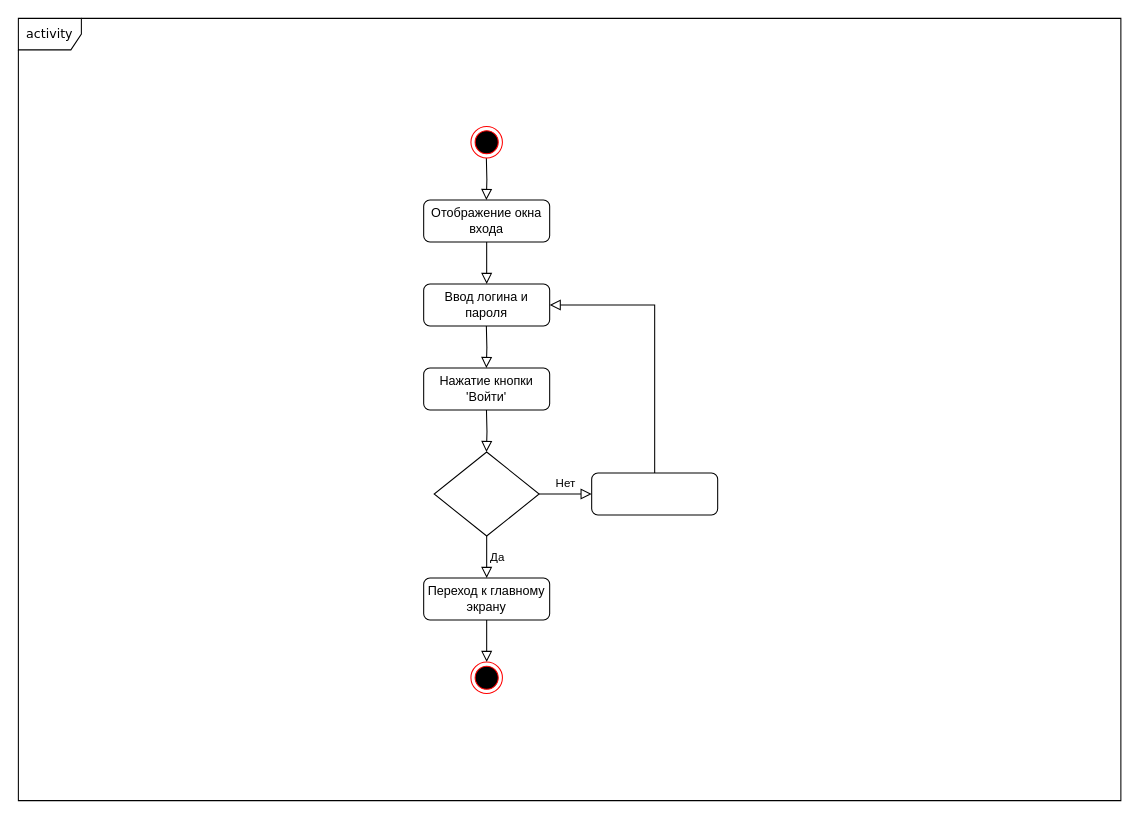
Some shapes in this 1139 by 819 pixel diagram are drawn without their labels. The shapes that lost their labels are listed below. From the top down, each one's box as (x1, y1, x2, y2) in pixels, then its label:
(433, 451, 539, 536): Проверка
(591, 472, 718, 515): Ошибка
